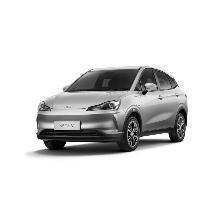EV: (37, 67, 191, 156)
